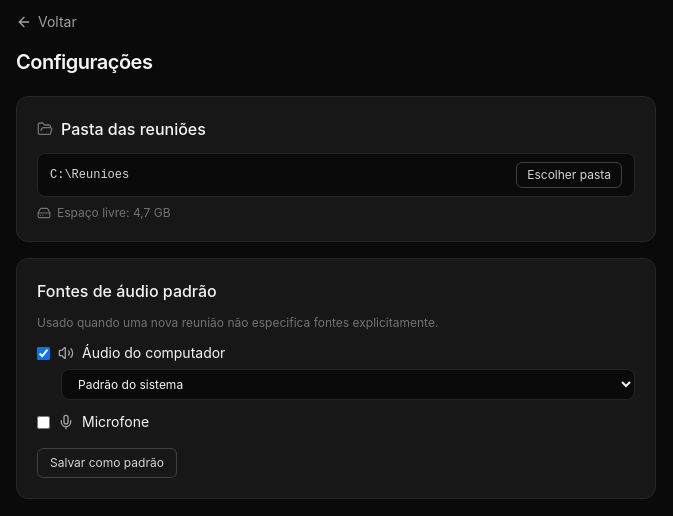
Test: Settings › Escolher pasta abre o dialogo nativo e recarrega a configuracao
This screenshot has width=673, height=516.
Expected: the text "C:\\Reunioes" is shown, [50,168,129,182]
Click the button "Escolher pasta" at (569, 175), box [516,162,622,188]
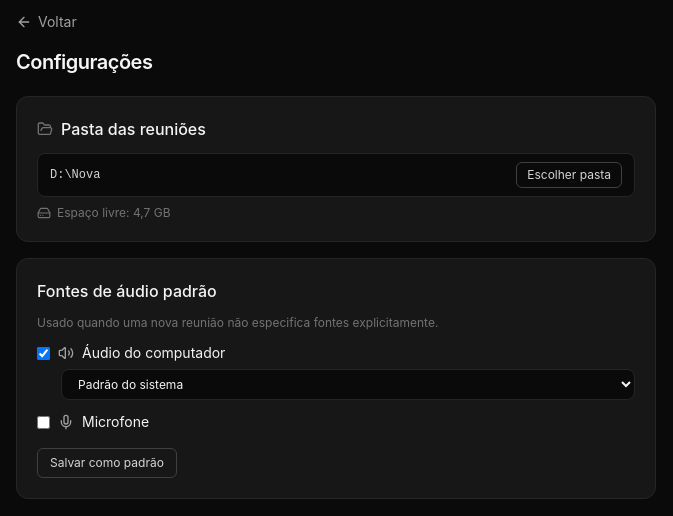
Expected: the text "D:\\Nova" is shown, [50,168,100,182]
